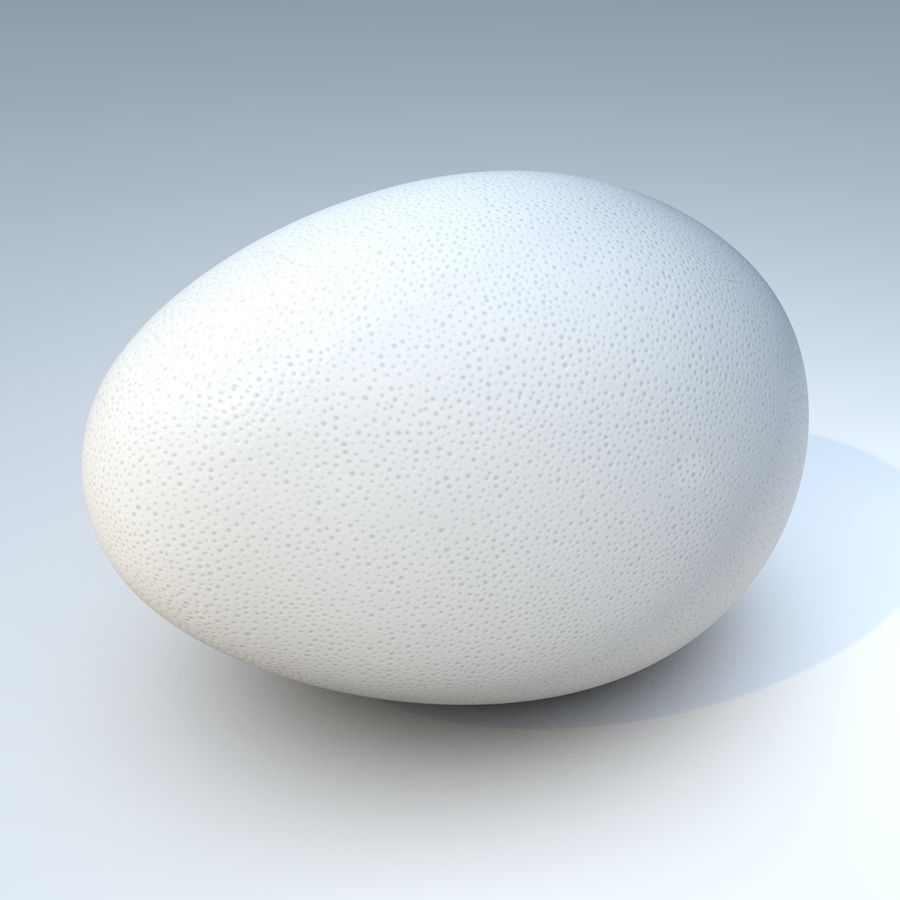Egg: (52, 147, 823, 726)
